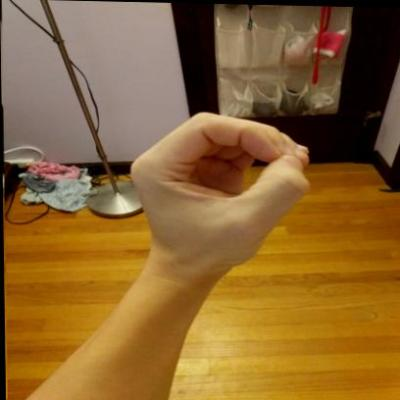hand: (123, 106, 316, 274)
